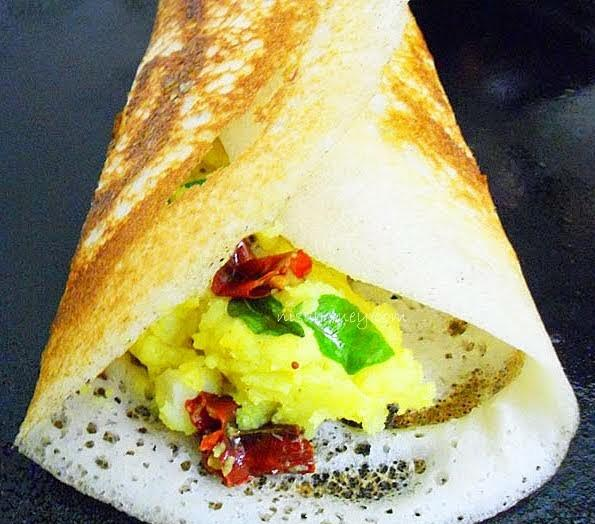Dosa: (14, 0, 579, 524)
